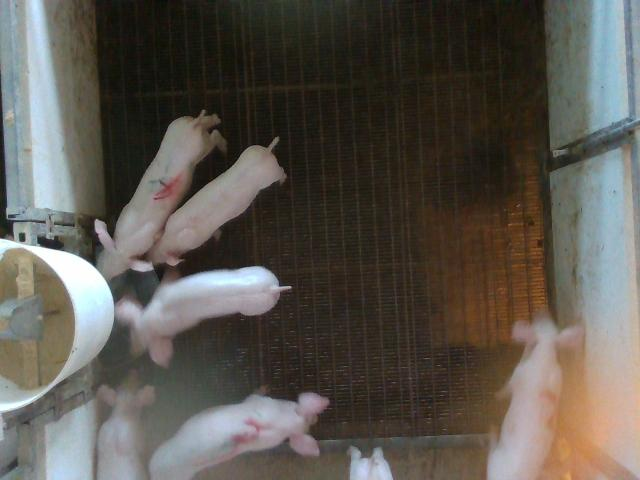pig-2: (488, 311, 582, 479)
pig-3: (149, 392, 329, 479)
pig-4: (95, 110, 226, 280)
